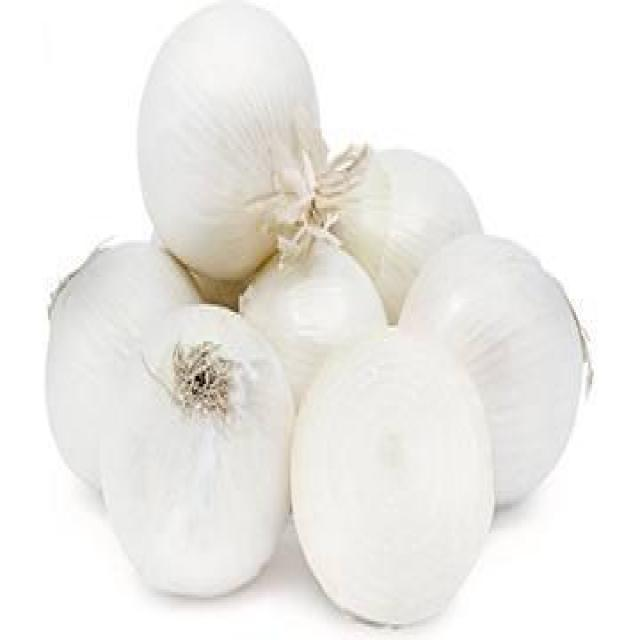Onion: (38, 240, 302, 624), (129, 2, 340, 290), (294, 340, 497, 625), (392, 225, 596, 508), (313, 147, 496, 330), (233, 216, 393, 395)
